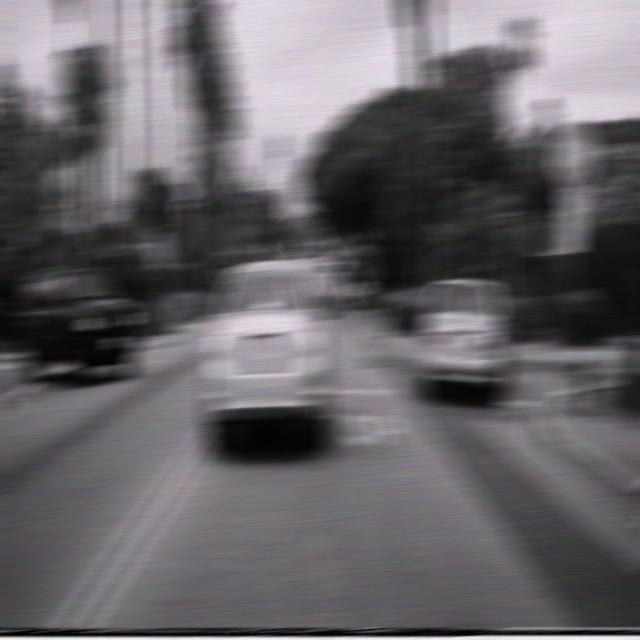stop: (550, 116, 597, 192)
